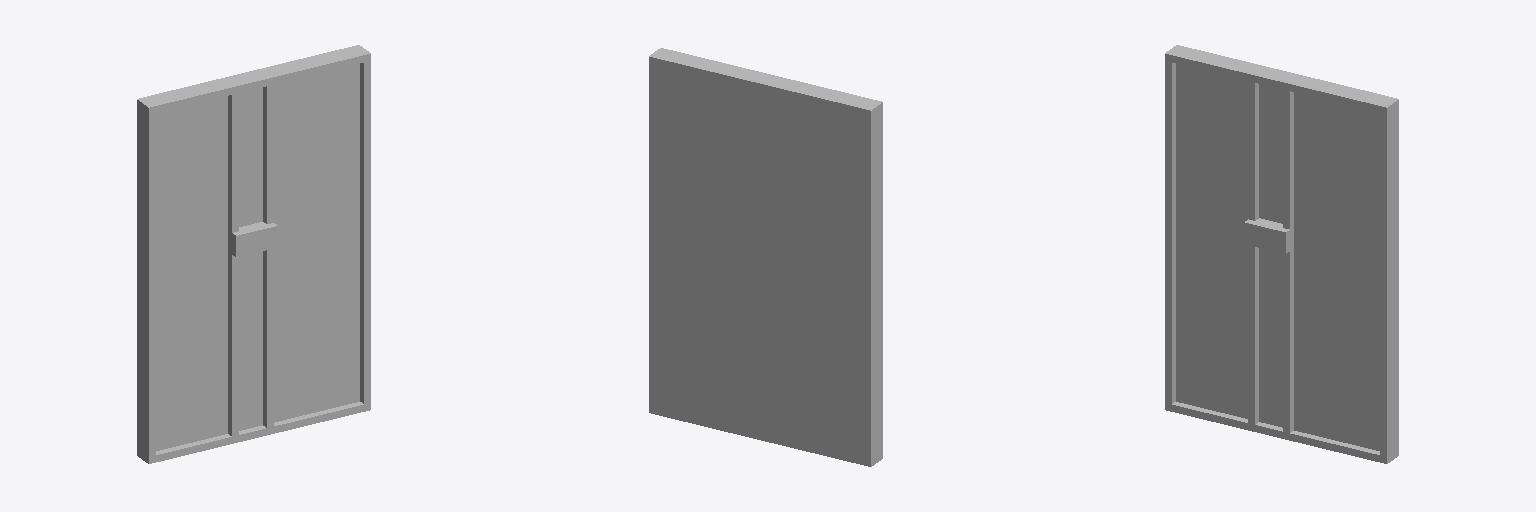
File: _lley door.obj
The picture shows the model from 3 angles: view 1: azimuth 30°, elevation 25°; view 2: azimuth 150°, elevation 25°; view 3: azimuth 330°, elevation 25°; orthographic projection.
Visible parts, largest first — view 1: object 1; view 2: object 1; view 3: object 1.
Boxes of the visible parts, <box> form: object 1: <box>137,45,370,463</box>; object 1: <box>649,48,882,466</box>; object 1: <box>1165,45,1398,463</box>.
Size of the model in its own units: 3.2 by 4.9 by 0.4.